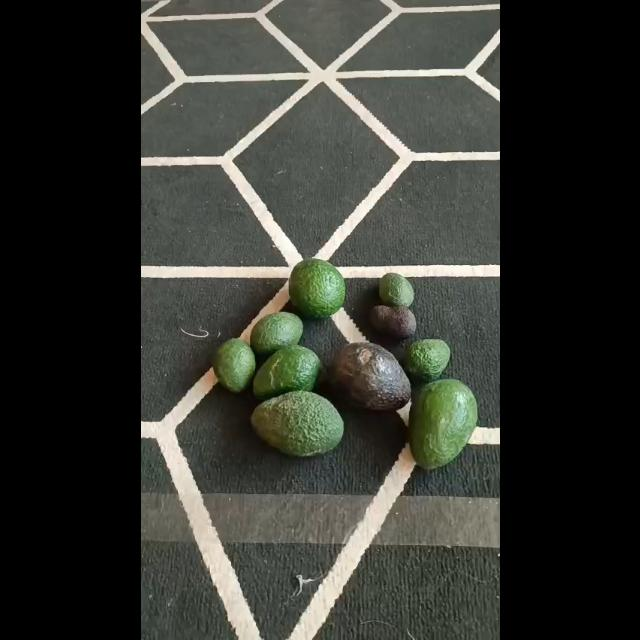Primera: (250, 389, 344, 456), (408, 378, 477, 468), (330, 340, 410, 410), (288, 258, 346, 318)
Segunda: (251, 344, 321, 400), (250, 312, 304, 356)
Tercera: (211, 338, 255, 394), (404, 338, 450, 382), (368, 305, 416, 339), (378, 271, 414, 307)
